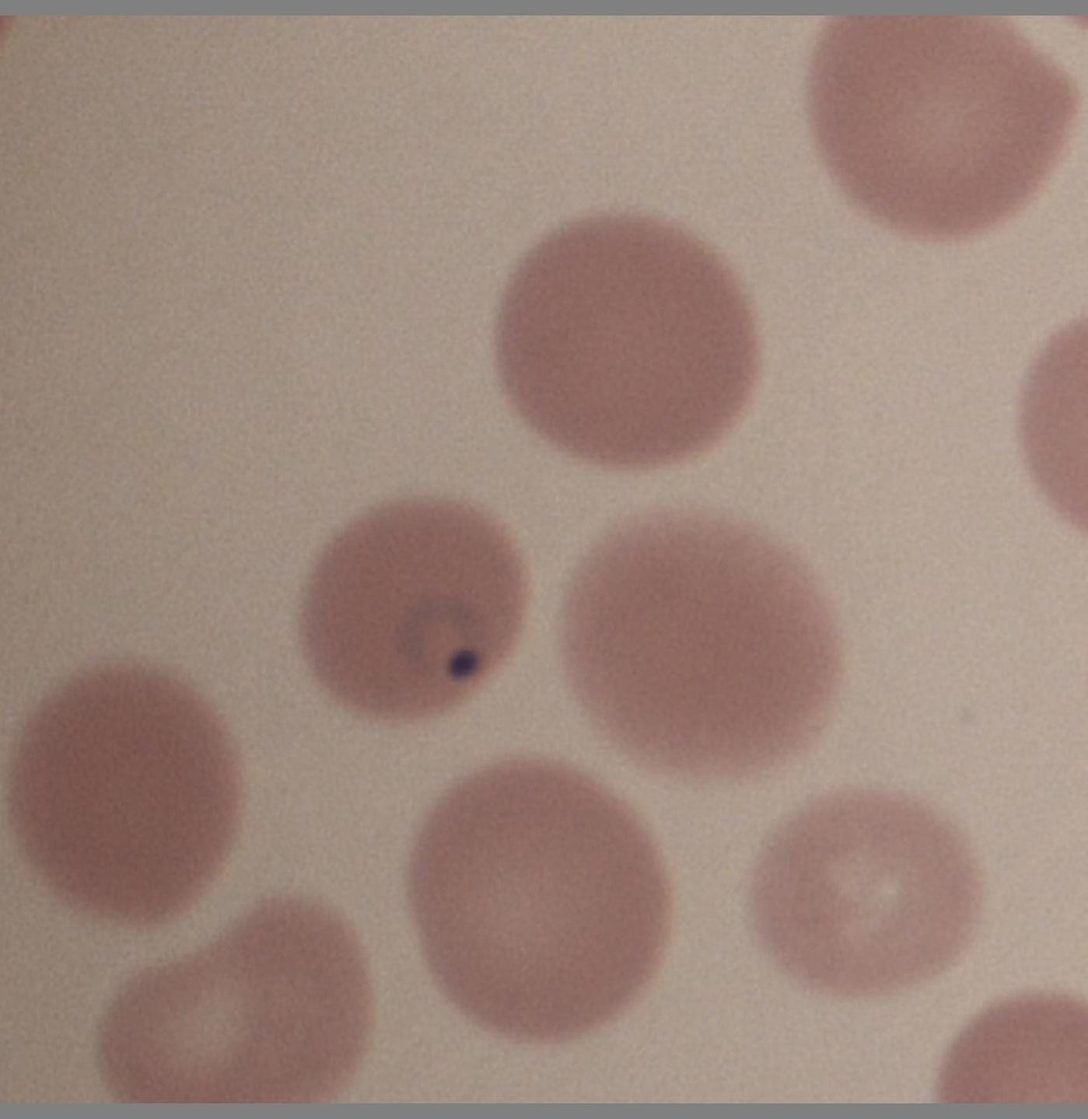Infected: (298, 496, 534, 720)
Uninfected: (560, 509, 850, 781), (415, 758, 671, 1038), (503, 213, 766, 471), (814, 6, 1080, 241), (10, 664, 237, 929), (749, 786, 975, 988)
